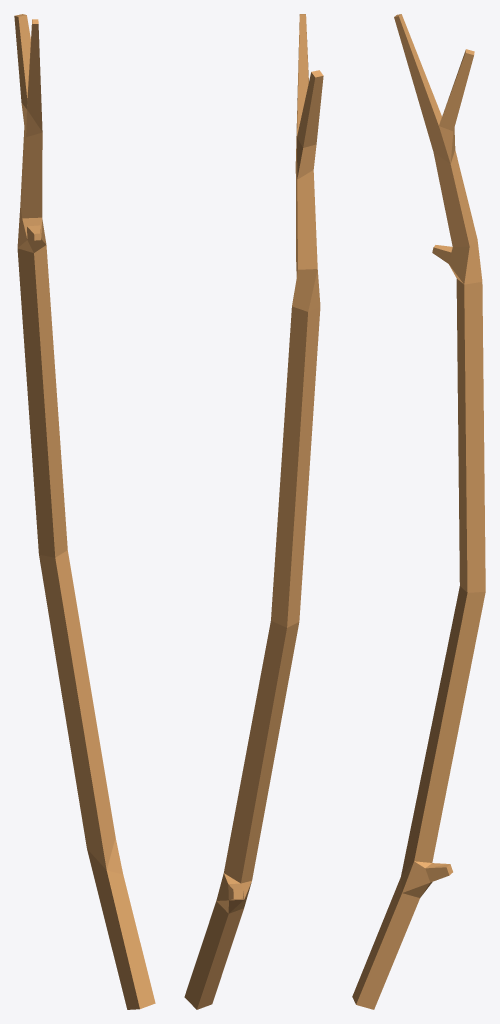
File: stick_03_long_palm.fbx
3 renders of one model, left to right at view 1: azimuth 30°, elevation 25°; view 2: azimuth 210°, elevation 25°; view 3: azimuth 270°, elevation 25°, orthographic. The views are drawn at different scales.
Parts seen in each view (by area): view 1: Cube; view 2: Cube; view 3: Cube.
Boxes of the visible parts, <box> form: Cube: <box>14,14,155,1009</box>; Cube: <box>184,14,323,1009</box>; Cube: <box>352,14,485,1009</box>.
Size of the model in its own units: 13.68 by 128 by 16.27.
